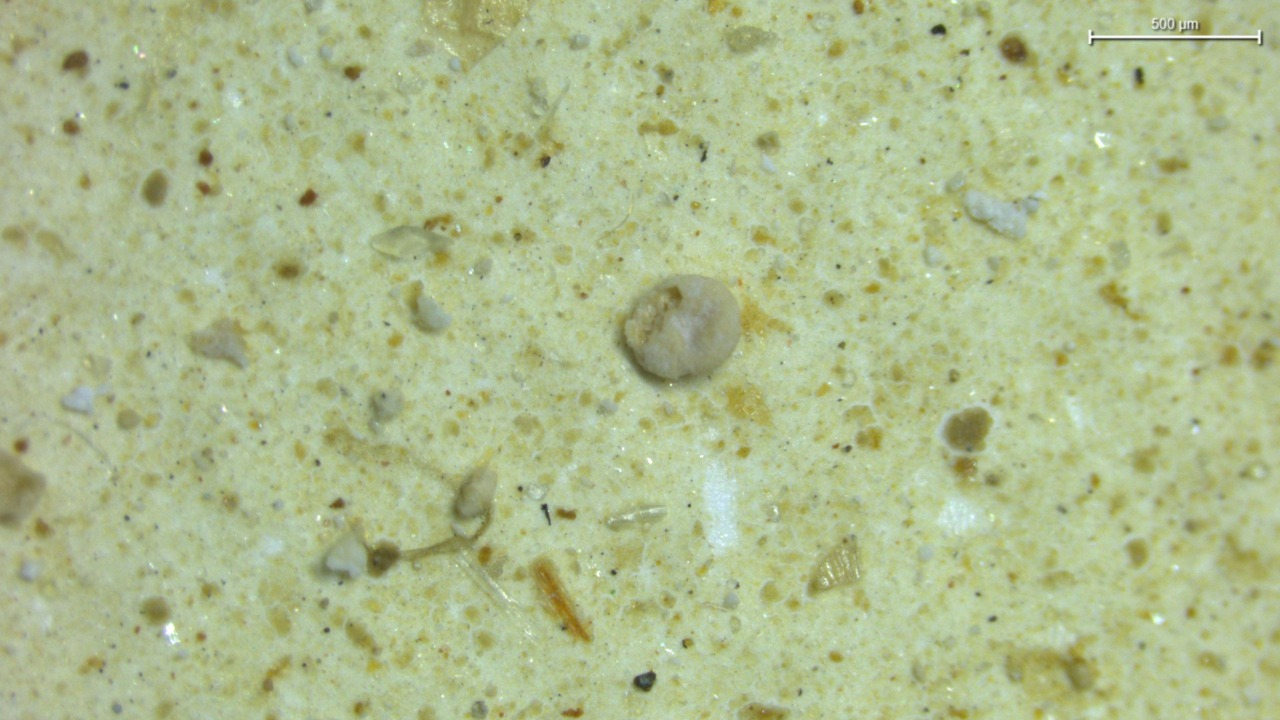microplastic_fragment: (623, 274, 741, 380), (964, 190, 1027, 238), (808, 537, 861, 594), (190, 319, 248, 367), (370, 226, 453, 259), (454, 467, 497, 519), (323, 531, 367, 578), (414, 292, 451, 332), (61, 386, 94, 414)
